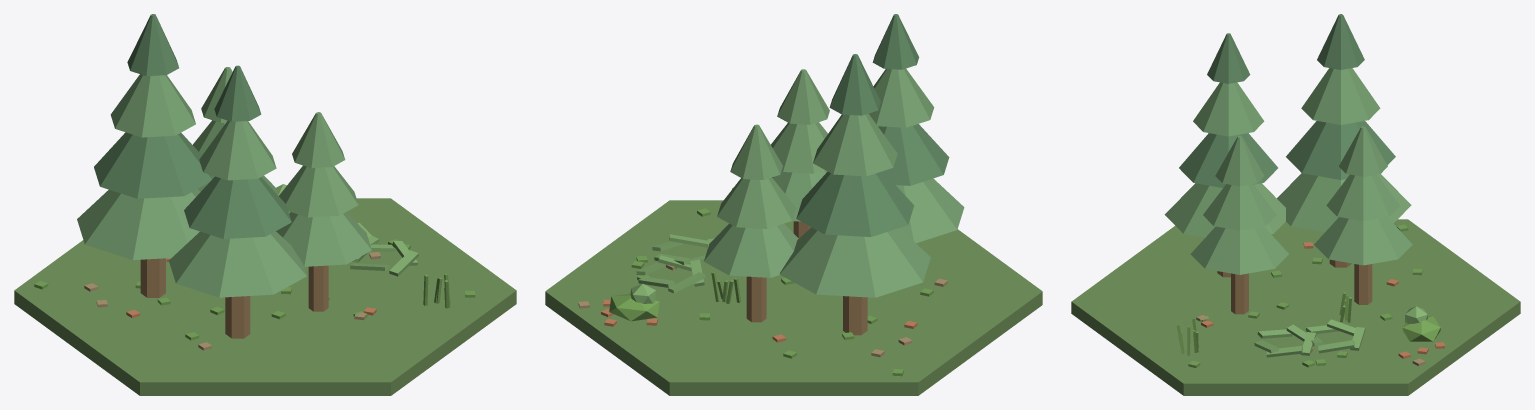
File: forest_to_grass.glb
The picture shows the model from 3 angles, left to right: view 1: azimuth 30°, elevation 25°; view 2: azimuth 150°, elevation 25°; view 3: azimuth 270°, elevation 25°; orthographic projection. The views are drawn at different scales.
Visible parts, largest first — view 1: plate; view 2: plate; view 3: plate.
Part boxes in pixels (bbox=[...]): plate: bbox=[14, 14, 516, 395]; plate: bbox=[545, 14, 1042, 395]; plate: bbox=[1071, 14, 1520, 395].
Bounding box in the file's own units: 1.73 × 1.28 × 2.
